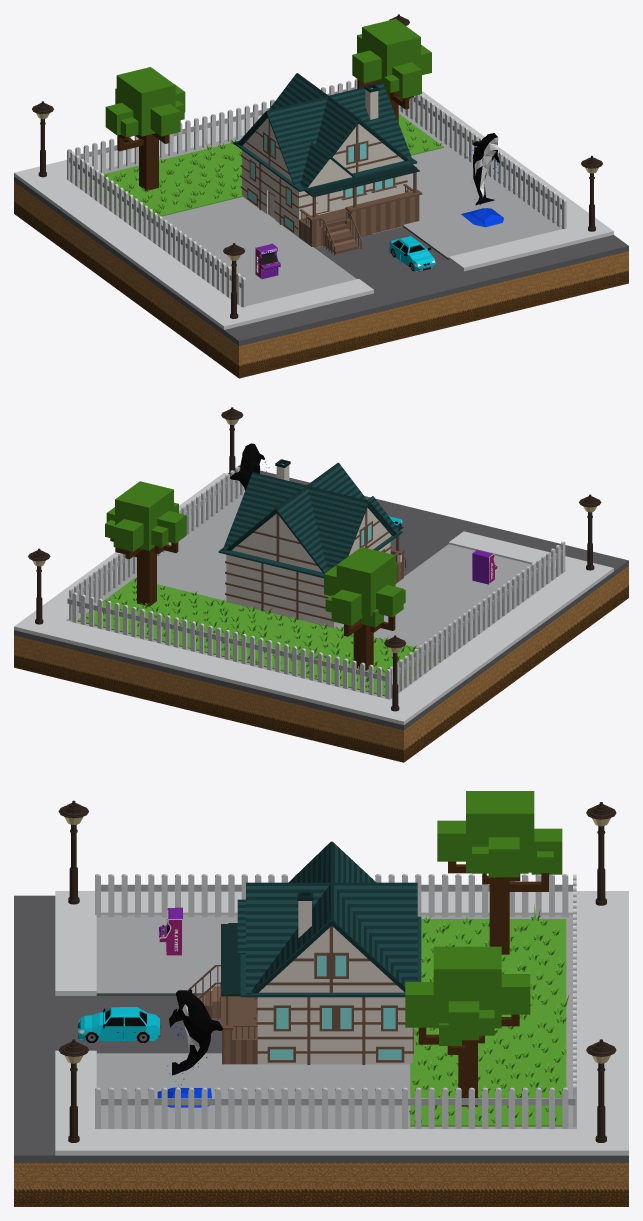
3 views of the same model, one above another, from view 1: azimuth 30°, elevation 25°; view 2: azimuth 150°, elevation 25°; view 3: azimuth 270°, elevation 25° (orthographic). The views are drawn at different scales.
Parts seen in each view (by area): view 1: Cube.004, Cube.793, ANIMAL_ORCA, VEHICLES_CAR, OBJRANDOM_ARCADE; view 2: Cube.004, Cube.793, ANIMAL_ORCA, OBJRANDOM_ARCADE; view 3: Cube.004, Cube.793, ANIMAL_ORCA, VEHICLES_CAR, OBJRANDOM_ARCADE.
Boxes of the visible parts, x1,y1,x2,y2 form: Cube.004: (14, 14, 628, 378); Cube.793: (233, 73, 422, 255); ANIMAL_ORCA: (461, 133, 503, 227); VEHICLES_CAR: (389, 236, 435, 271); OBJRANDOM_ARCADE: (255, 243, 280, 279); Cube.004: (14, 407, 628, 762); Cube.793: (218, 459, 406, 627); ANIMAL_ORCA: (230, 443, 269, 490); OBJRANDOM_ARCADE: (472, 549, 497, 584); Cube.004: (14, 791, 628, 1206); Cube.793: (188, 841, 421, 1064); ANIMAL_ORCA: (157, 989, 223, 1107); VEHICLES_CAR: (77, 1007, 161, 1042); OBJRANDOM_ARCADE: (159, 907, 182, 956).
Bounding box in the file's own units: 4000 × 1601 × 4000.
Materials: 39 (4 with a texture image).
